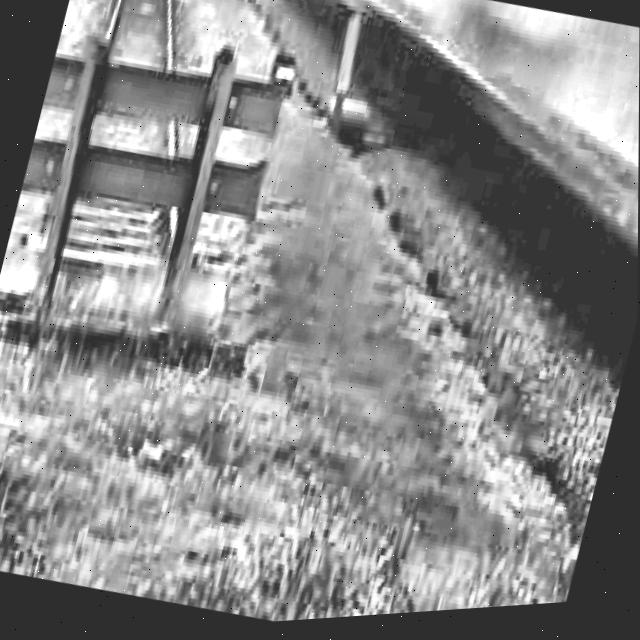Kereta: (101, 0, 640, 634)
